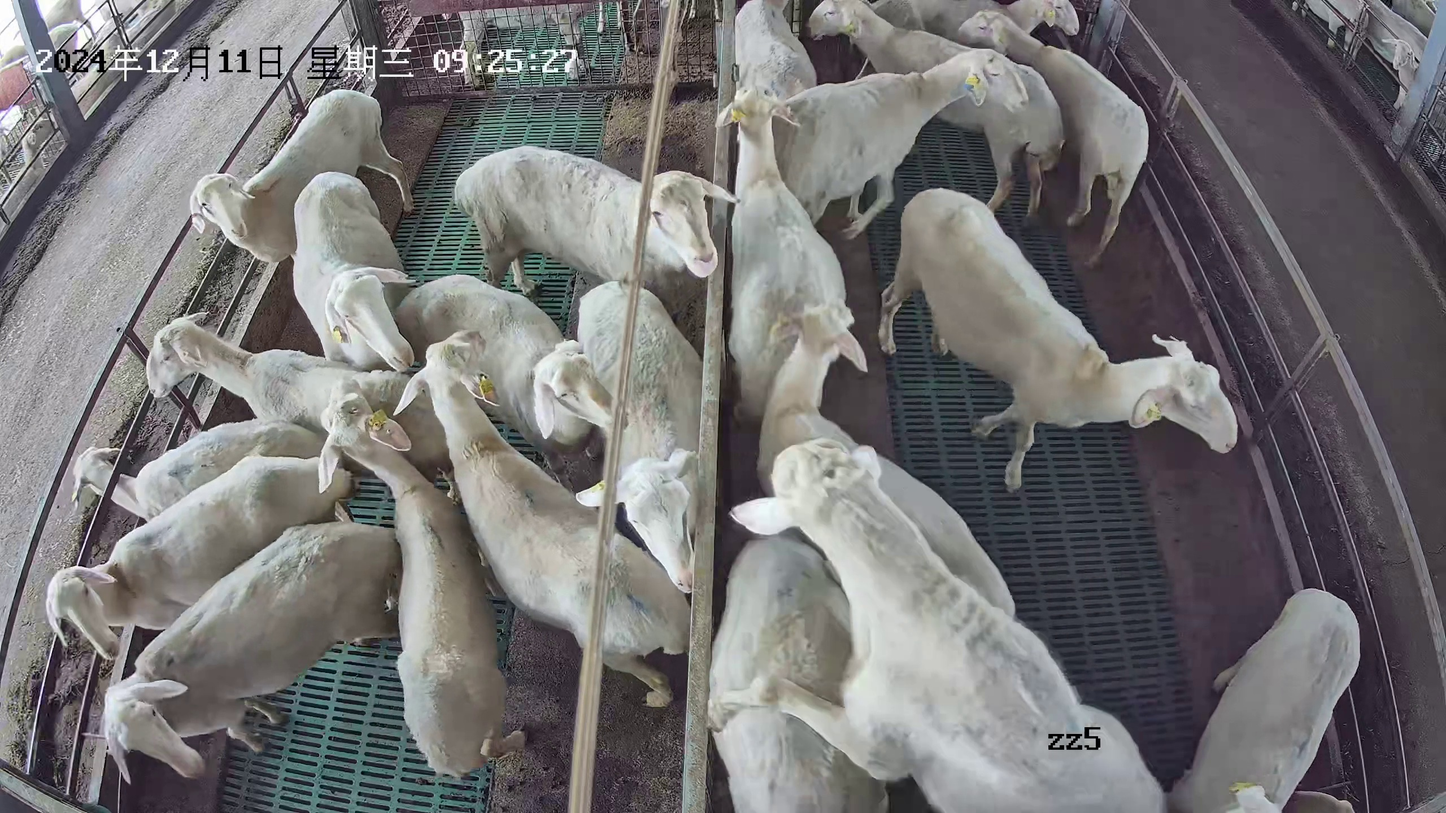Smounting: (705, 435, 1165, 813)
mounted: (708, 528, 890, 813)
